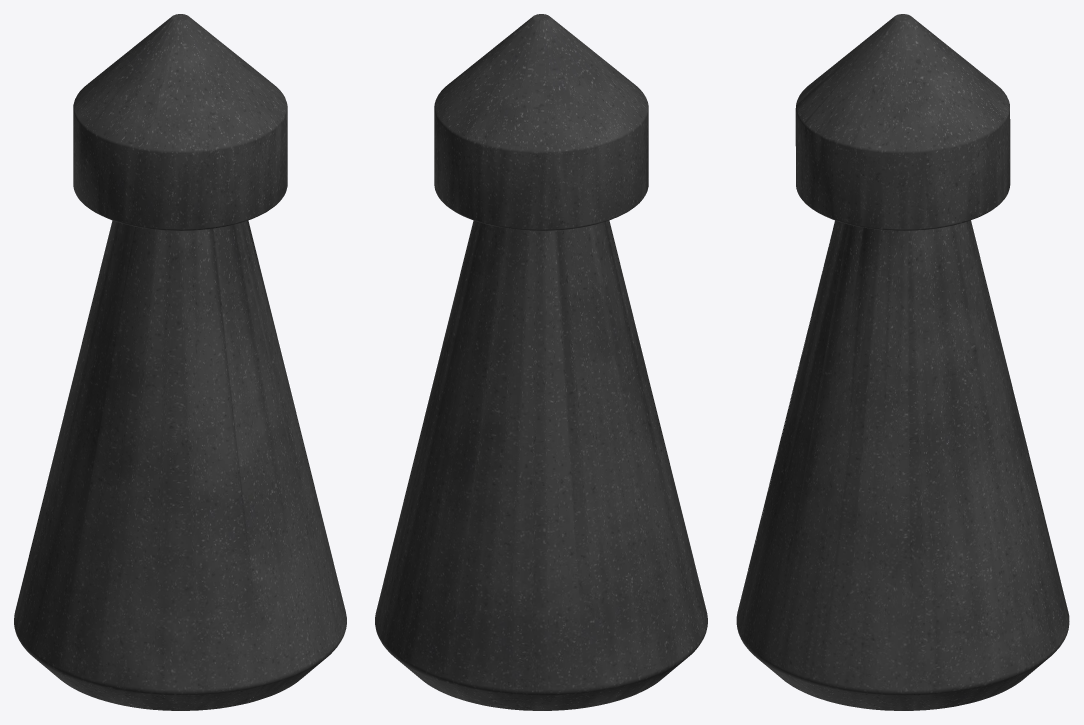
Rendered from bishop-black.glb.
3 renders of one model, left to right at view 1: azimuth 30°, elevation 25°; view 2: azimuth 150°, elevation 25°; view 3: azimuth 270°, elevation 25°, orthographic.
Parts seen in each view (by area): view 1: 06_strelec_cerna; view 2: 06_strelec_cerna; view 3: 06_strelec_cerna.
Part boxes in pixels (x1,y1,x2,y2): 06_strelec_cerna: (14,14,346,710); 06_strelec_cerna: (375,14,707,710); 06_strelec_cerna: (736,14,1069,710).
Size of the model in its own units: 0.7147 by 1.51 by 0.7151.
Materials: 1 (1 with a texture image).
